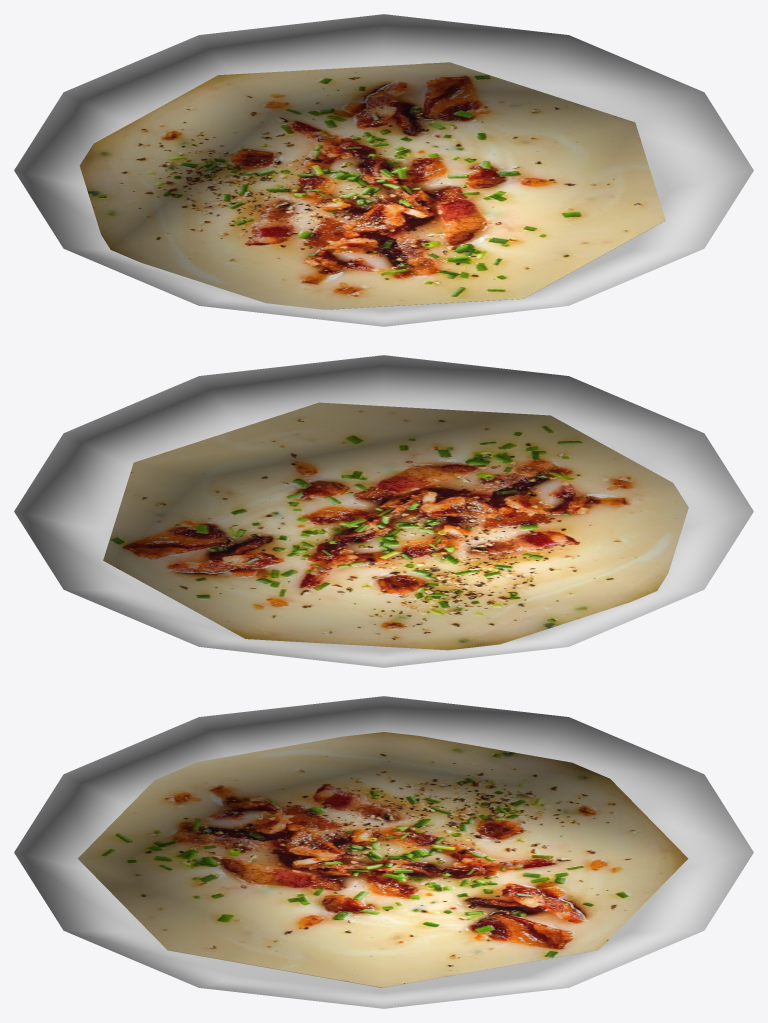
Rendered from SM_PlateSoup.fbx.
The picture shows the model from 3 angles, top to bottom: view 1: azimuth 30°, elevation 25°; view 2: azimuth 150°, elevation 25°; view 3: azimuth 270°, elevation 25°; orthographic projection.
Visible parts, largest first — view 1: FoodClump_Soup, plate; view 2: FoodClump_Soup, plate; view 3: FoodClump_Soup, plate.
Part boxes in pixels (x1,y1,x2,y2): FoodClump_Soup: (79,62,665,309); plate: (14,14,753,326); FoodClump_Soup: (103,402,688,650); plate: (14,355,753,667); FoodClump_Soup: (78,732,688,987); plate: (14,696,753,1008).
Size of the model in its own units: 18 by 18 by 0.8352.
